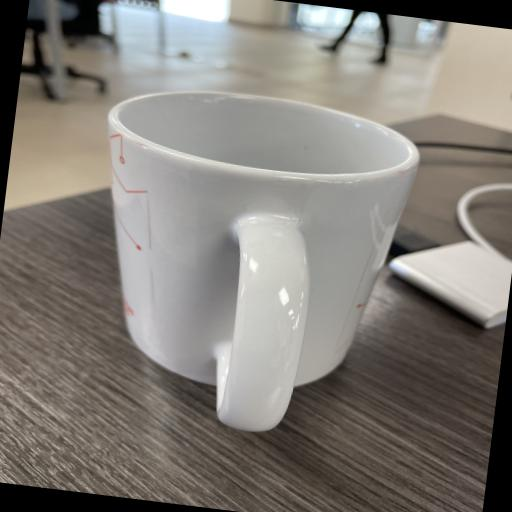taza: (63, 70, 437, 454)
